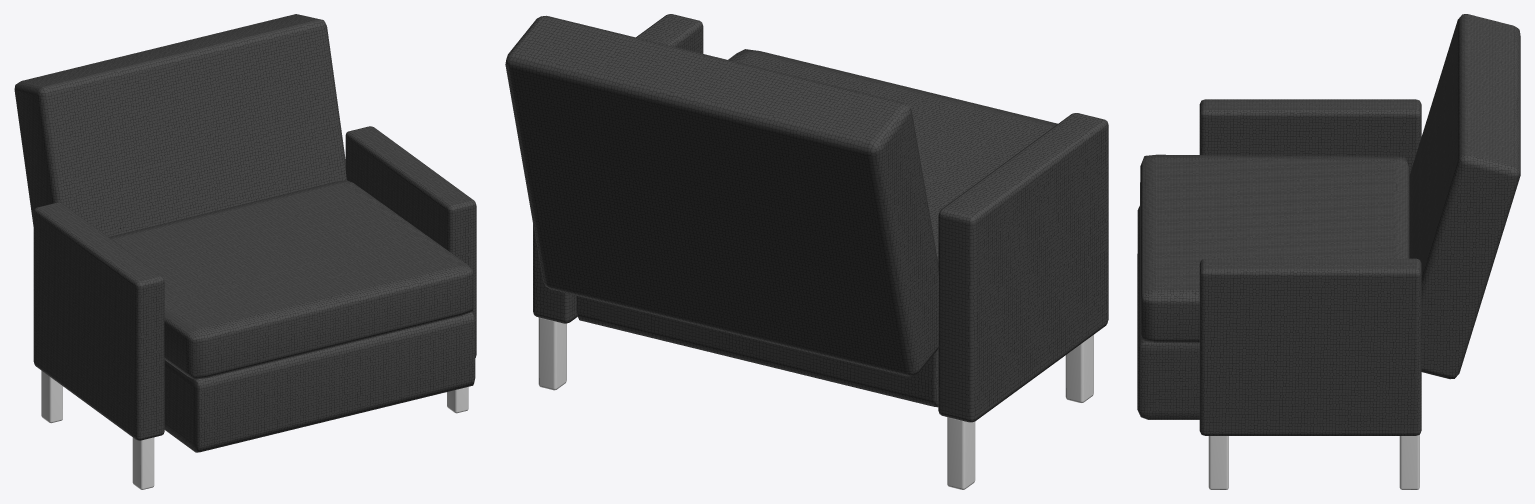
Rendered from couch_chair.fbx.
3 views of the same model, side by side, from view 1: azimuth 30°, elevation 25°; view 2: azimuth 150°, elevation 25°; view 3: azimuth 270°, elevation 25° (orthographic). The views are drawn at different scales.
Visible parts, largest first — view 1: Cube.006; view 2: Cube.006; view 3: Cube.006.
Boxes of the visible parts, x1=… form: Cube.006: x1=14, y1=14, x2=476, y2=489; Cube.006: x1=505, y1=14, x2=1108, y2=489; Cube.006: x1=1137, y1=14, x2=1520, y2=489.
Size of the model in its own units: 195 by 169 by 182.
